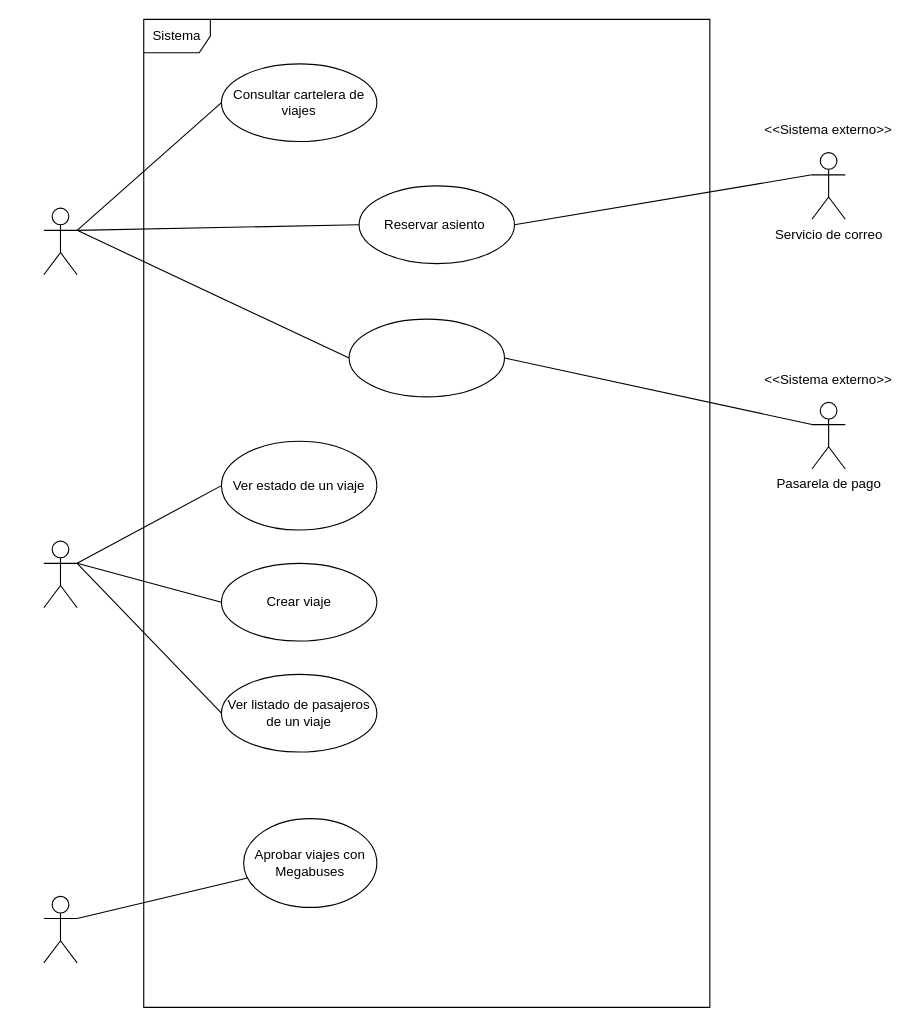
The diagram is 915 pixels wide and 1027 high, and some of its shapes have lost their labels. The centre of each missing label's shape, as x and y in pixels:
Administrador: point (60, 574)
Gerente: point (60, 929)
Pagar reserva: point (426, 357)
Pasajero: point (60, 241)
